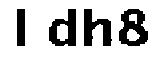8: (117, 7, 150, 48)
d: (43, 6, 78, 51)
h: (84, 5, 114, 52)
l: (14, 4, 35, 50)
